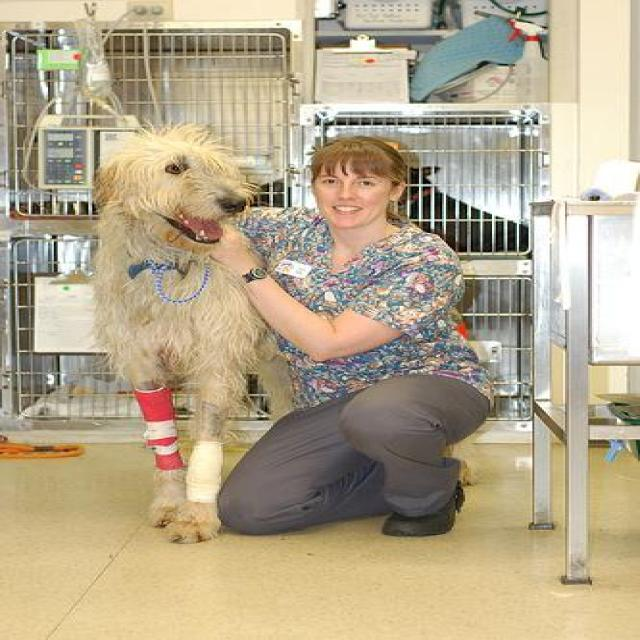irish_wolfhound: (88, 117, 298, 546)
